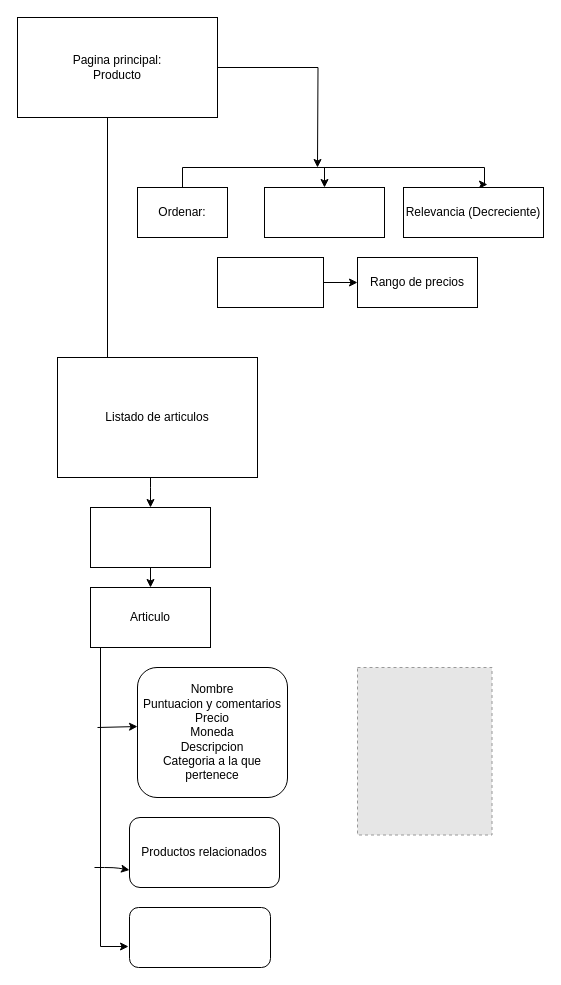
The diagram is 561 pixels wide and 985 high, and some of its shapes have lost their labels. Grey dashed boxes stand in for pictures. Here are the shapes that lost their labels. From the top down, the centre of each, then its label:
At point 324,212: "Precio (creciente)".
At point 270,282: "Filtrar:".
At point 150,537: "Click en el articulo deseado".
At point 199,937: "Preguntas sobre este articulo".
